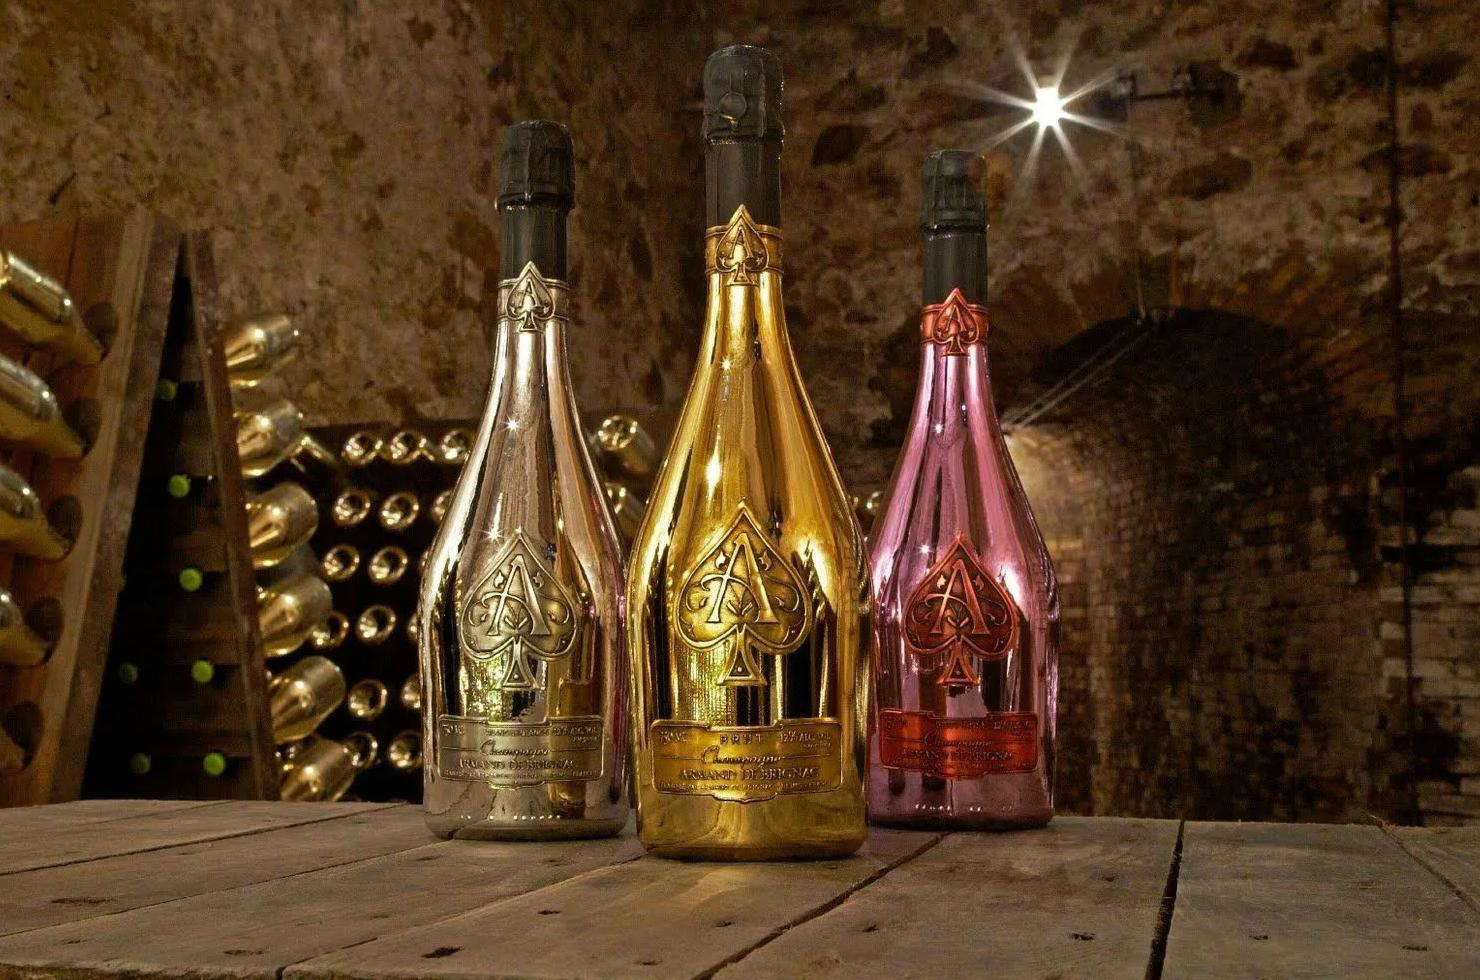wine bottle: (621, 44, 872, 862), (418, 121, 634, 841), (866, 149, 1061, 830)
wine label: (676, 501, 814, 688), (457, 523, 578, 689), (901, 529, 1019, 687), (652, 719, 843, 805), (436, 713, 605, 785), (882, 708, 1036, 783)
